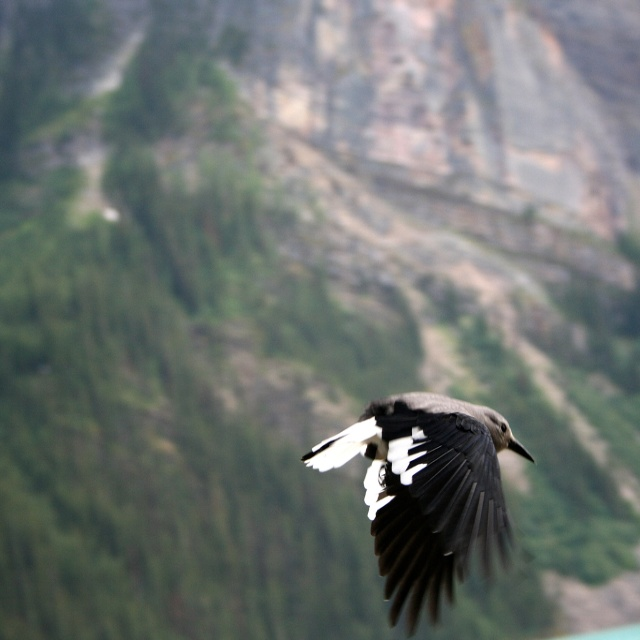Magpie: (300, 392, 535, 638)
